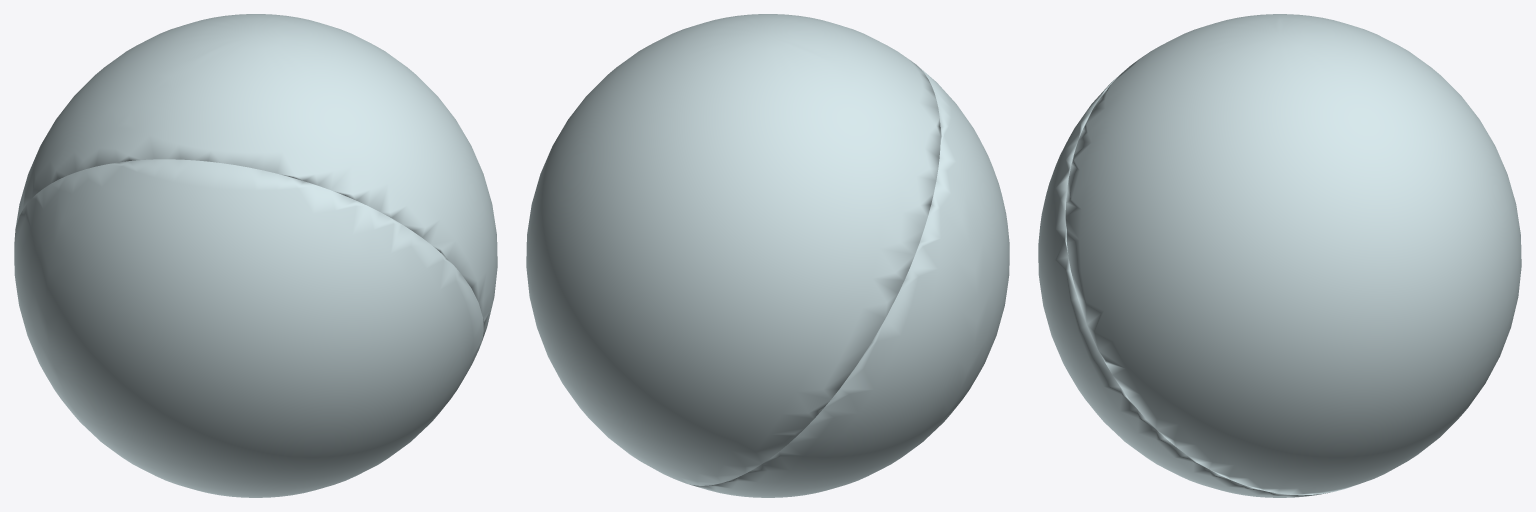
File: sphere-cad-lite.glb
The picture shows the model from 3 angles, left to right: view 1: azimuth 30°, elevation 25°; view 2: azimuth 150°, elevation 25°; view 3: azimuth 270°, elevation 25°; orthographic projection.
Parts seen in each view (by area): view 1: Shell Lower, Shell Upper; view 2: Shell Upper, Shell Lower; view 3: Shell Upper, Shell Lower.
Boxes of the visible parts, x1,y1,x2,y2 form: Shell Lower: (14, 159, 483, 497); Shell Upper: (15, 14, 497, 340); Shell Upper: (526, 14, 940, 485); Shell Lower: (689, 66, 1009, 497); Shell Upper: (1065, 14, 1521, 495); Shell Lower: (1038, 75, 1329, 497).
Bounding box in the file's own units: 0.0685 × 0.0686 × 0.0685.
